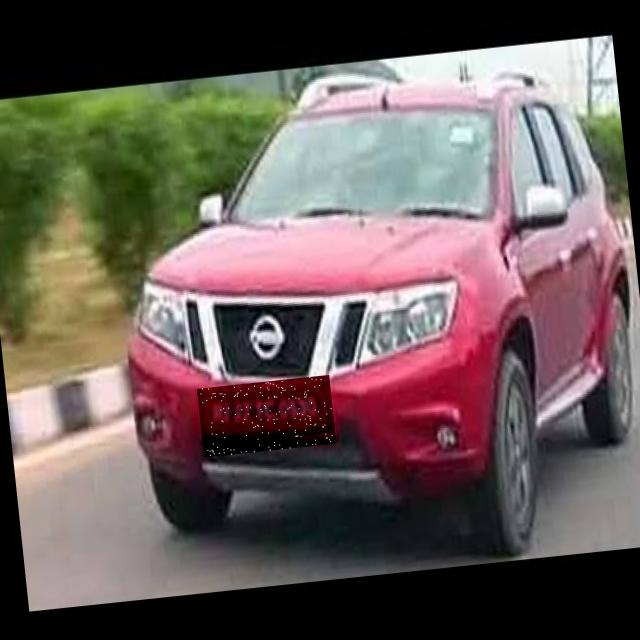Plate: (198, 375, 337, 458)
